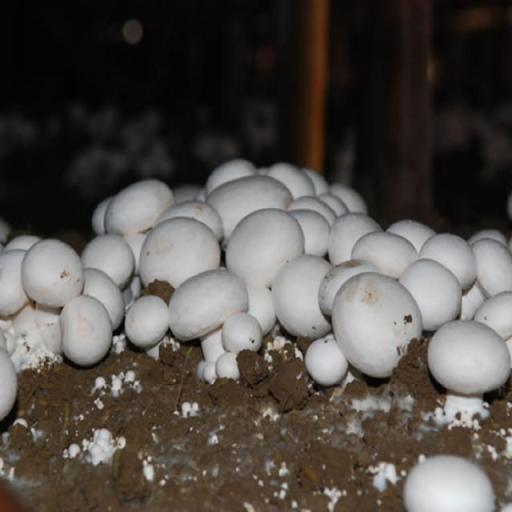mushroom: (291, 267, 420, 382), (428, 317, 506, 436), (400, 444, 506, 512), (170, 275, 247, 367), (135, 219, 219, 295), (116, 285, 189, 371), (395, 253, 469, 331), (202, 168, 289, 234), (227, 212, 310, 276), (458, 238, 512, 322), (273, 195, 335, 263), (23, 238, 83, 308), (101, 181, 174, 236), (352, 225, 418, 283), (77, 264, 132, 331), (57, 299, 111, 362), (424, 229, 472, 291), (325, 252, 380, 304), (87, 232, 136, 290), (306, 180, 370, 224), (0, 244, 38, 315), (324, 218, 379, 267), (223, 310, 266, 359)
